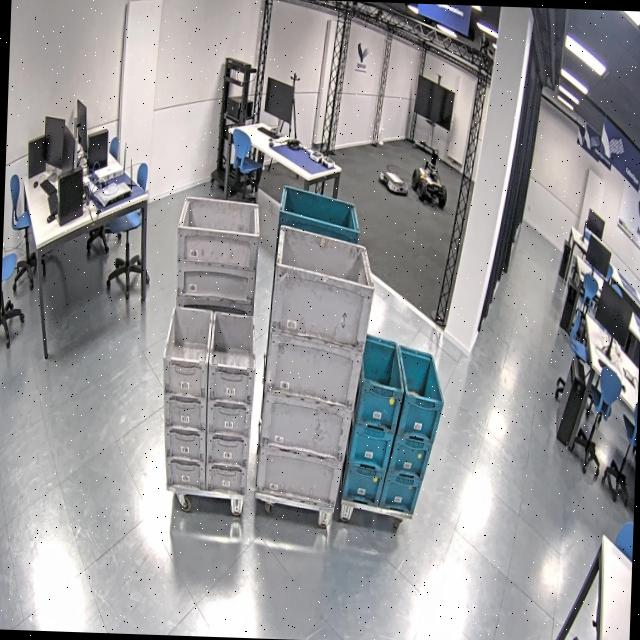Box3G: (168, 194, 264, 436)
Box4G: (253, 222, 376, 512)
Box8G: (156, 302, 258, 500)
BoxB4: (258, 182, 363, 471)
BoxB8: (338, 328, 448, 518)
